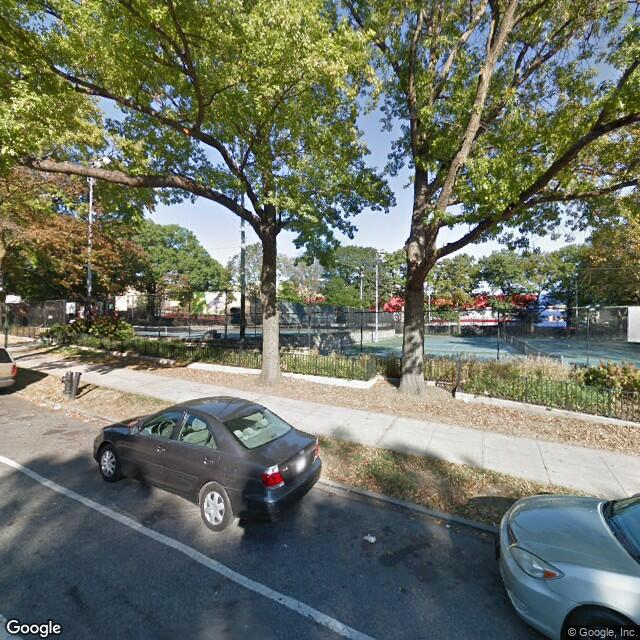litter: (364, 533, 378, 543), (444, 523, 450, 527), (283, 542, 288, 546)
